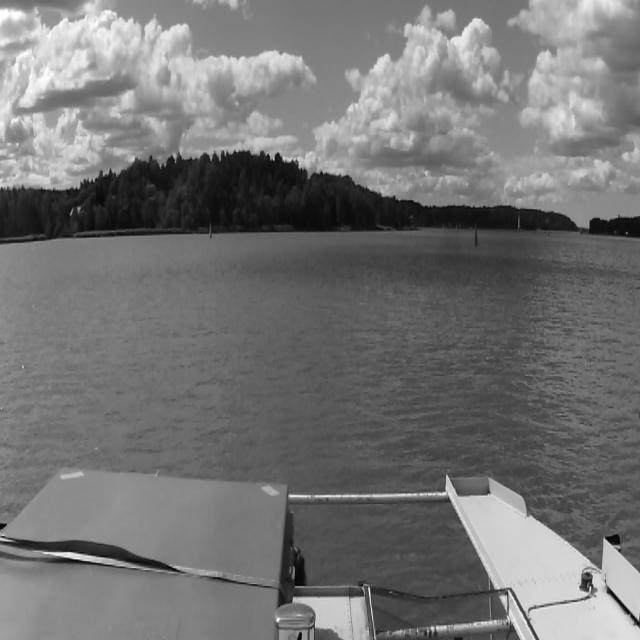buoy: (205, 220, 213, 242), (474, 225, 478, 244)
